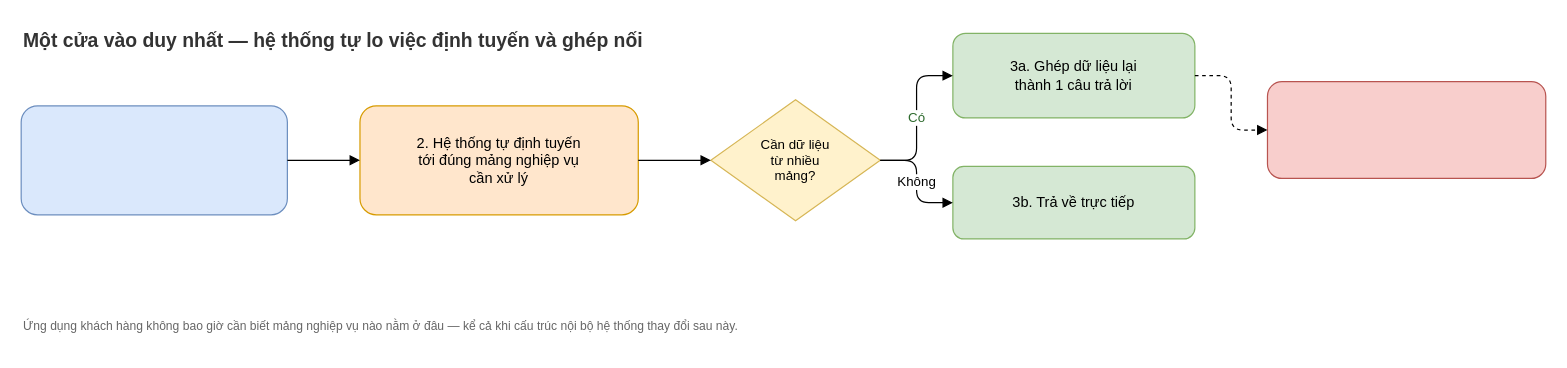
This 1567x368 diagram has some shape labels left out. Here are the shapes that lost their labels. From the top down, the centre of each, then its label:
At (1406,129): "Nếu một mảng gặp sự cố: báo lỗi rõ ràng trong vài giây, không treo".
At (153,160): "1. Ứng dụng khách hàng gửi yêu cầu tới MỘT địa chỉ duy nhất".
